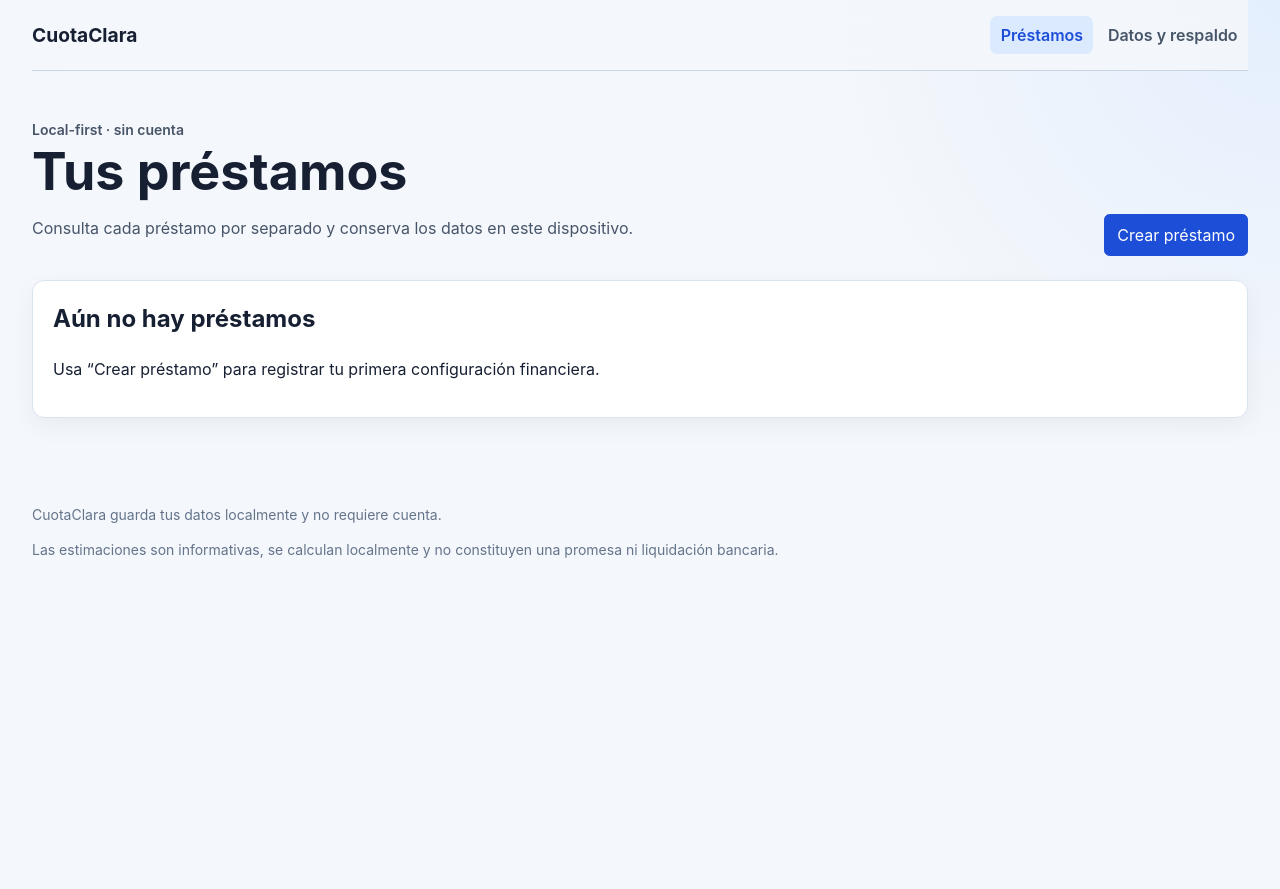
Test: App › muestra la discrepancia de cuota sin alterar el plazo contractual
Expected: the heading "Aún no hay préstamos" is shown, [53,304,315,333]
Click the button "Crear préstamo" at (1176, 235), box [1104,214,1248,256]
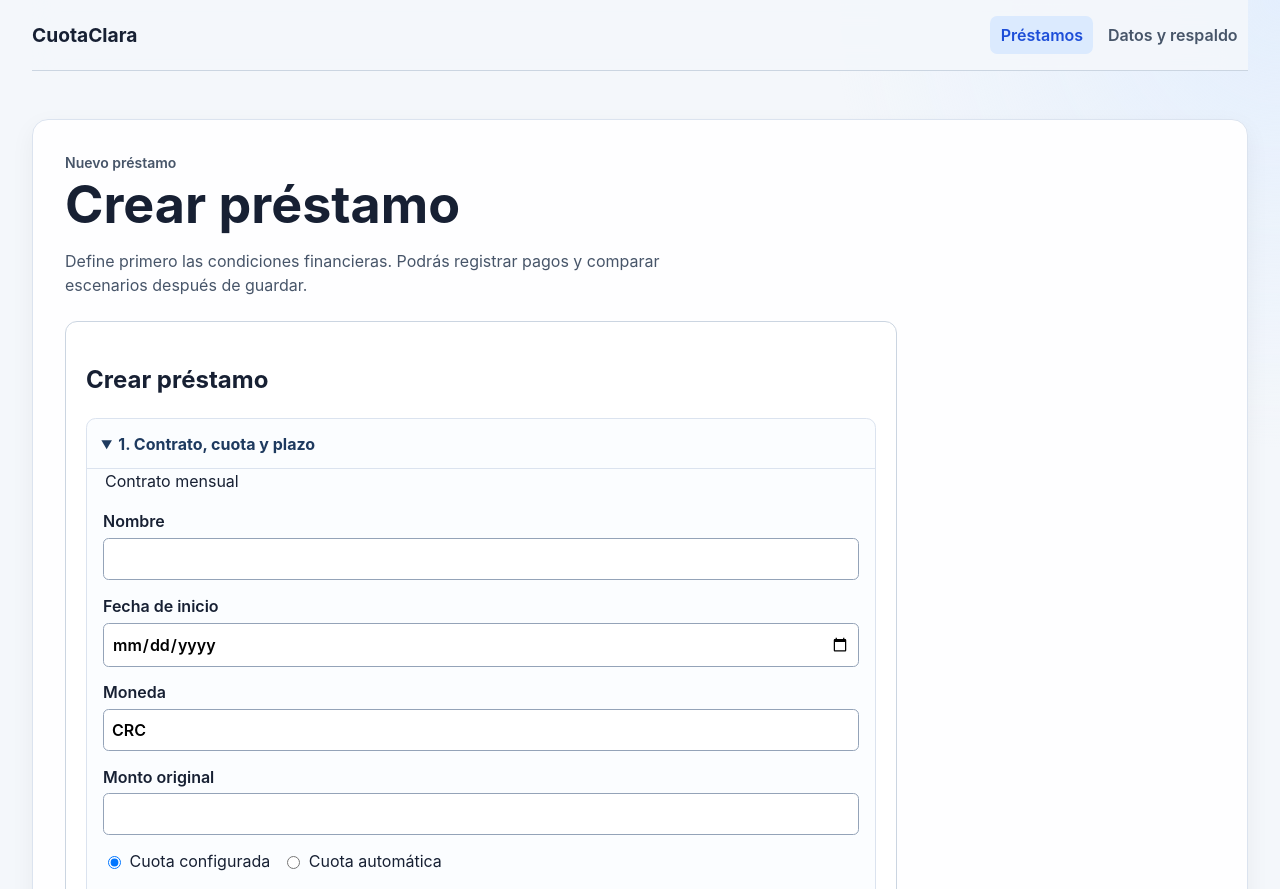
Type "Cuota insuficiente" into the field labelled "Nombre" at (481, 559), box [103,538,859,580]
Type "2026-01-15" into the date field labelled "Fecha de inicio" at (481, 644), box [103,622,859,666]
Type "115000000" into the field labelled "Monto original" at (481, 814), box [103,793,859,835]
(page scrolled)
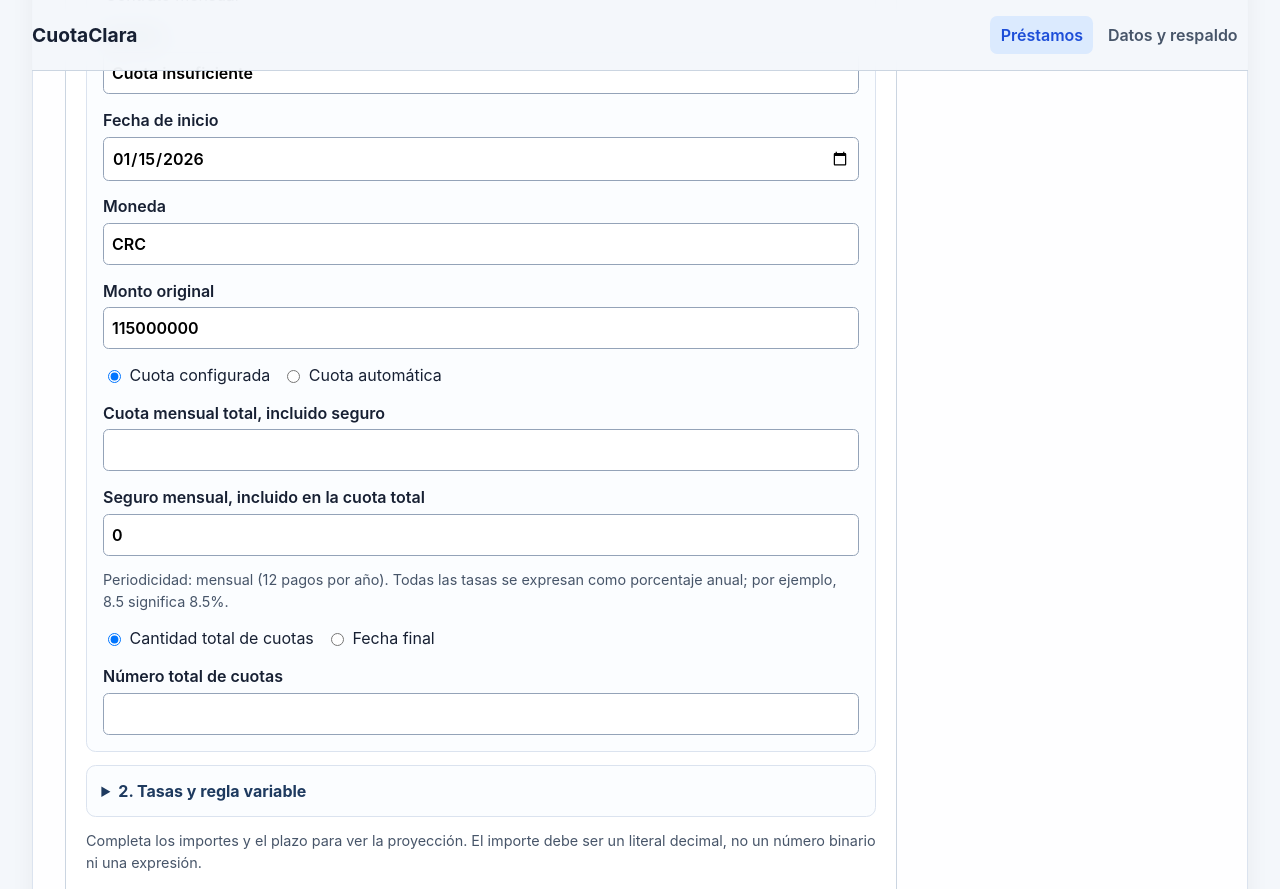
Type "900000" into the field labelled "Cuota mensual total, incluido seguro" at (481, 450), box [103,429,859,471]
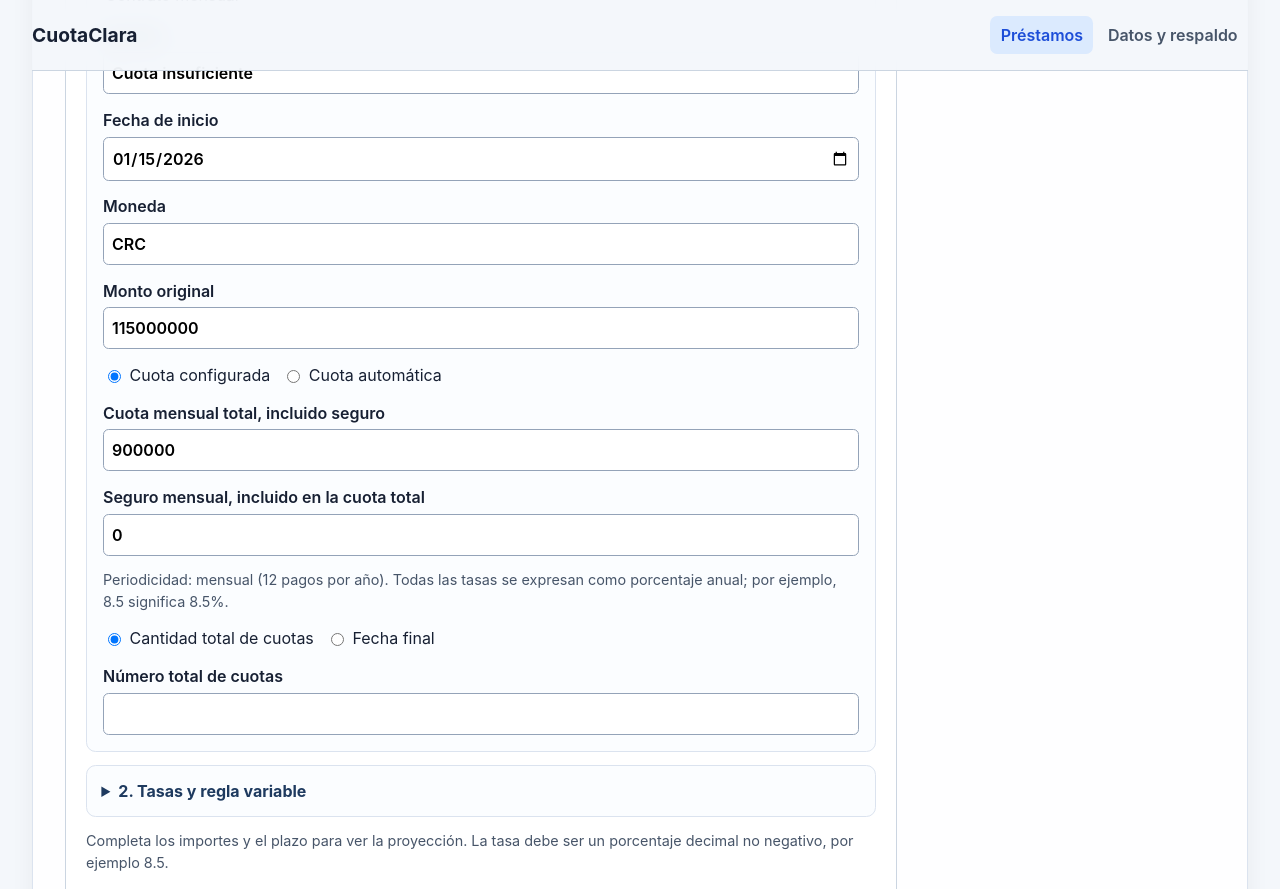
Replace the text in the field labelled "Seguro mensual, incluido en la cuota total" with "150000" at (481, 535), box [103,514,859,556]
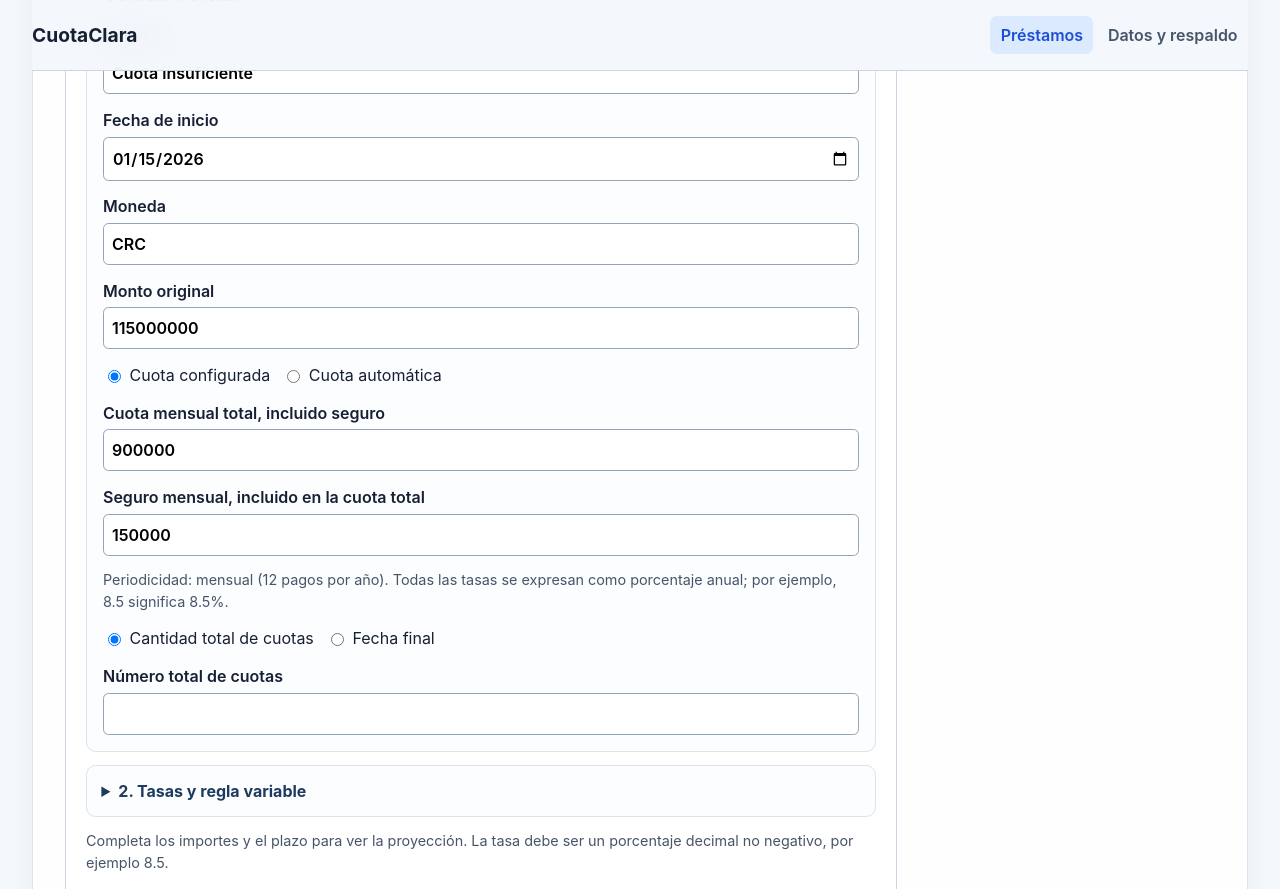
Type "360" into the number field labelled "Número total de cuotas" at (481, 714), box [103,692,859,734]
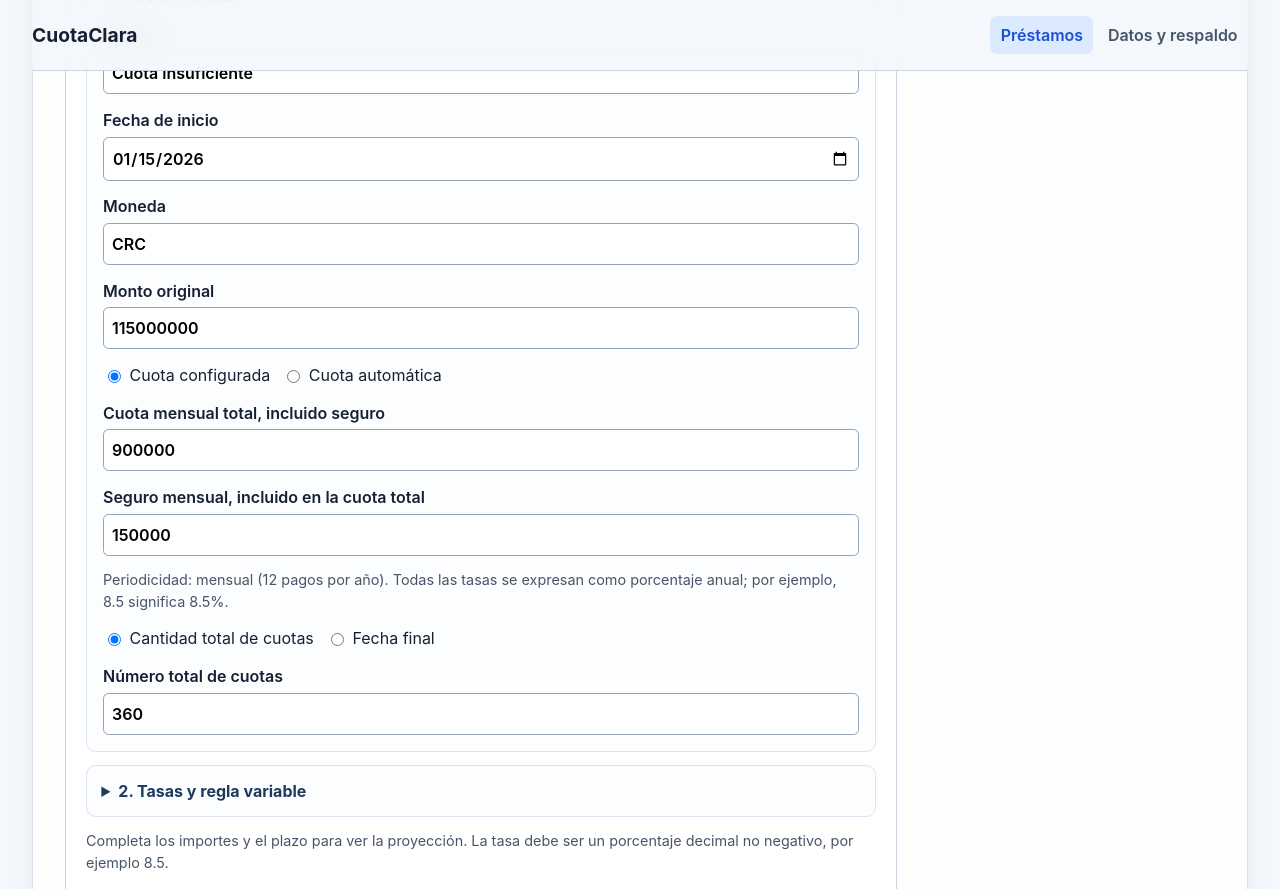
Replace the text in the field named "Tasa nominal anual fija (%)" with "8.5" at (481, 791), box [86,765,876,817]
(page scrolled)
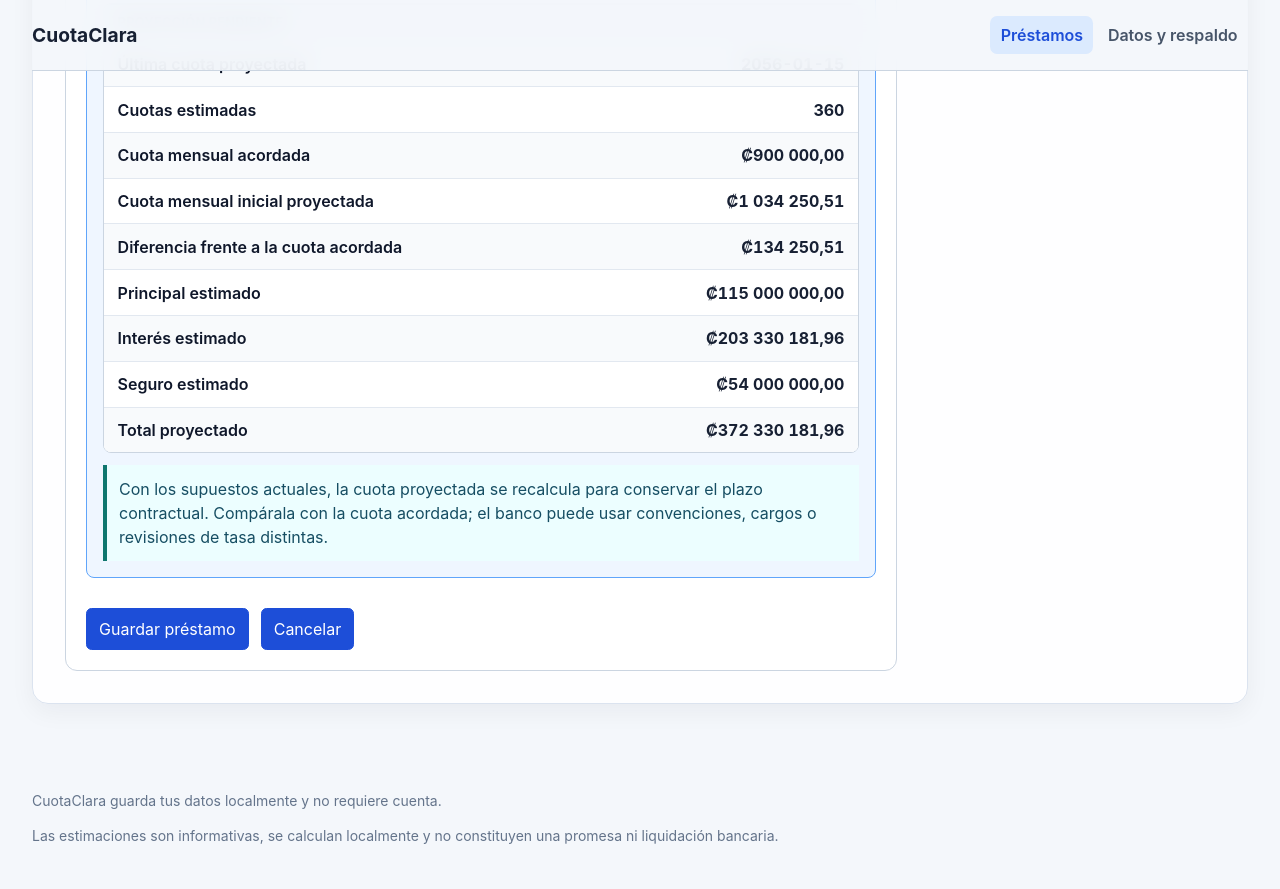
Expected: the text "360" is shown, [596,87,858,132]
Expected: the column heading "Cuota mensual acordada" is shown, [104,132,596,178]
Expected: the column heading "Cuota mensual inicial proyectada" is shown, [104,178,596,224]
